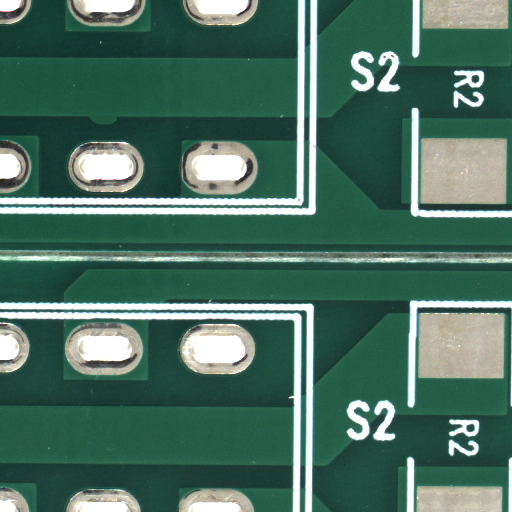Spur: (103, 120, 135, 131)
